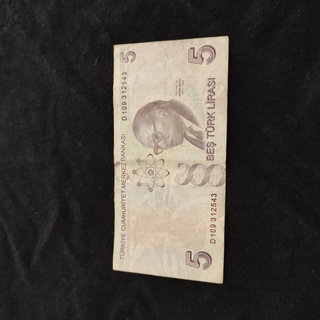5TLBack: (112, 35, 229, 284)
